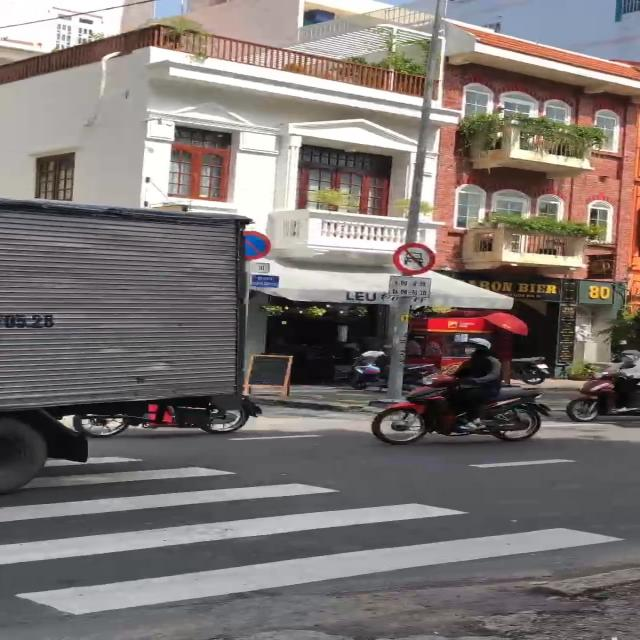Bien bao cam xe oto: (391, 242, 441, 274)
